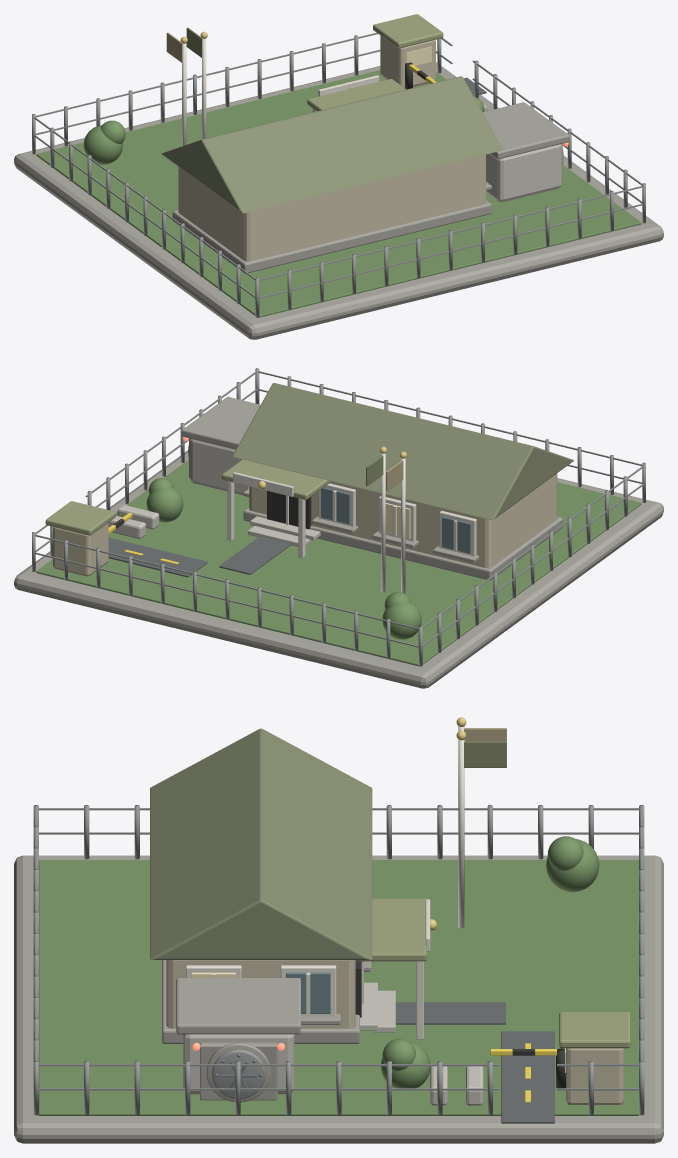
The model's file is treasury_3.glb.
3 views of the same model, one above another, from view 1: azimuth 30°, elevation 25°; view 2: azimuth 150°, elevation 25°; view 3: azimuth 270°, elevation 25° (orthographic). The views are drawn at different scales.
Parts seen in each view (by area): view 1: Cube.001, prism, Cube, Cube.015, Cube.016, Cube.045, Cube.046, Cube.006, Cube.007, Cube.039, Sphere.013, Cube.054 (+7 smaller); view 2: Cube.001, prism, Cube, Cube.015, Cube.016, Cube.046, Cube.006, Cube.045, Cube.002, Cube.039, Cube.007, Cube.014 (+21 smaller); view 3: Cube.001, prism, Cube, Cube.046, Cube.002, Cube.015, Cube.039, Cube.006, Cube.007, Cube.014, Cube.045, Cube.016 (+19 smaller).
Boxes of the visible parts, x1=… form: Cube.001: x1=36, y1=70, x2=641, y2=317; prism: x1=161, y1=76, x2=502, y2=213; Cube: x1=14, y1=62, x2=663, y2=339; Cube.015: x1=178, y1=154, x2=485, y2=261; Cube.016: x1=172, y1=200, x2=491, y2=273; Cube.045: x1=486, y1=144, x2=561, y2=201; Cube.046: x1=483, y1=102, x2=569, y2=159; Cube.006: x1=380, y1=35, x2=435, y2=87; Cube.007: x1=373, y1=14, x2=443, y2=48; Cube.039: x1=307, y1=79, x2=406, y2=111; Sphere.013: x1=83, y1=125, x2=122, y2=164; Cube.054: x1=259, y1=203, x2=642, y2=298; Cube.001: x1=36, y1=460, x2=641, y2=666; prism: x1=232, y1=383, x2=573, y2=520; Cube: x1=14, y1=450, x2=663, y2=688; Cube.015: x1=249, y1=473, x2=557, y2=568; Cube.016: x1=243, y1=507, x2=562, y2=580; Cube.046: x1=182, y1=397, x2=260, y2=449; Cube.006: x1=53, y1=522, x2=108, y2=576; Cube.045: x1=190, y1=439, x2=249, y2=495; Cube.002: x1=108, y1=537, x2=207, y2=577; Cube.039: x1=222, y1=459, x2=331, y2=499; Cube.007: x1=45, y1=501, x2=116, y2=535; Cube.014: x1=219, y1=536, x2=290, y2=574; Cube.001: x1=38, y1=860, x2=639, y2=1115; prism: x1=150, y1=728, x2=372, y2=959; Cube: x1=14, y1=855, x2=663, y2=1143; Cube.046: x1=176, y1=978, x2=300, y2=1034; Cube.002: x1=501, y1=1031, x2=554, y2=1123; Cube.015: x1=166, y1=960, x2=355, y2=1028; Cube.039: x1=356, y1=898, x2=426, y2=961; Cube.006: x1=566, y1=1048, x2=623, y2=1104; Cube.007: x1=559, y1=1012, x2=630, y2=1048; Cube.014: x1=395, y1=1002, x2=505, y2=1024; Cube.045: x1=183, y1=1034, x2=294, y2=1094; Cube.016: x1=162, y1=960, x2=359, y2=1043.
Size of the model in its own units: 2.92 by 1.09 by 2.92.
